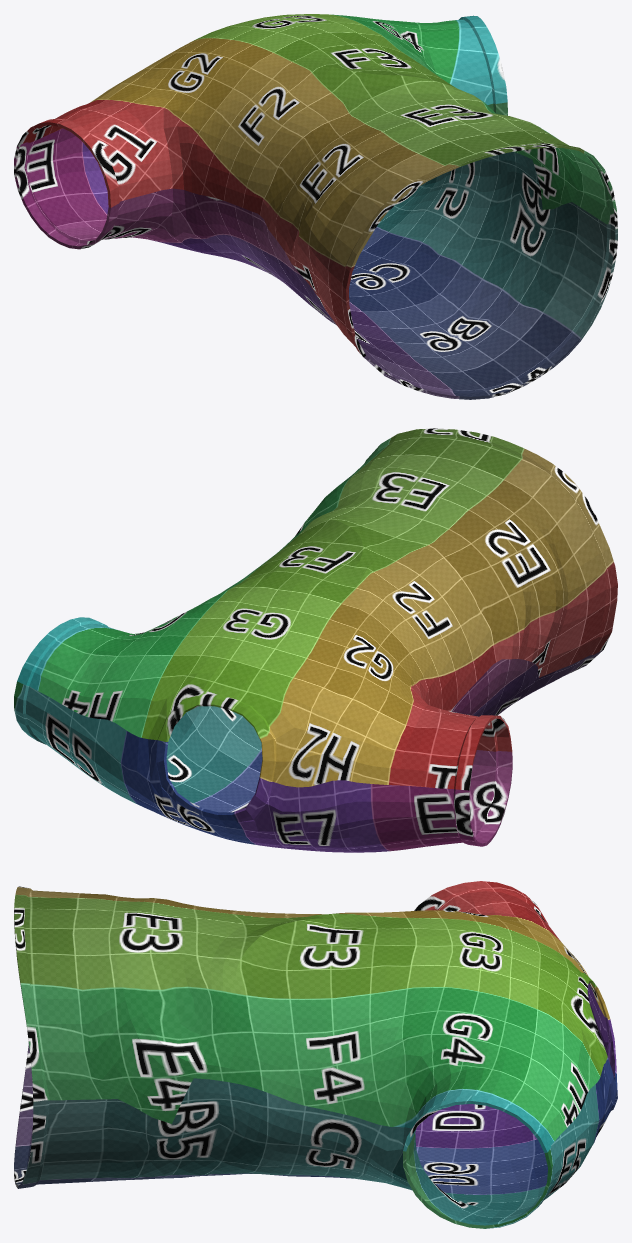
Rendered from t_shirt_lowpoly.obj.
The picture shows the model from 3 angles, top to bottom: view 1: azimuth 30°, elevation 25°; view 2: azimuth 150°, elevation 25°; view 3: azimuth 270°, elevation 25°; orthographic projection. The views are drawn at different scales.
Visible parts, largest first — view 1: Tshirt_obj; view 2: Tshirt_obj; view 3: Tshirt_obj.
Boxes of the visible parts, x1,y1,x2,y2 form: Tshirt_obj: [14, 14, 617, 399]; Tshirt_obj: [14, 428, 617, 852]; Tshirt_obj: [14, 881, 617, 1228].
Size of the model in its own units: 1.46 by 0.7492 by 1.57.
Materials: 1 (1 with a texture image).
